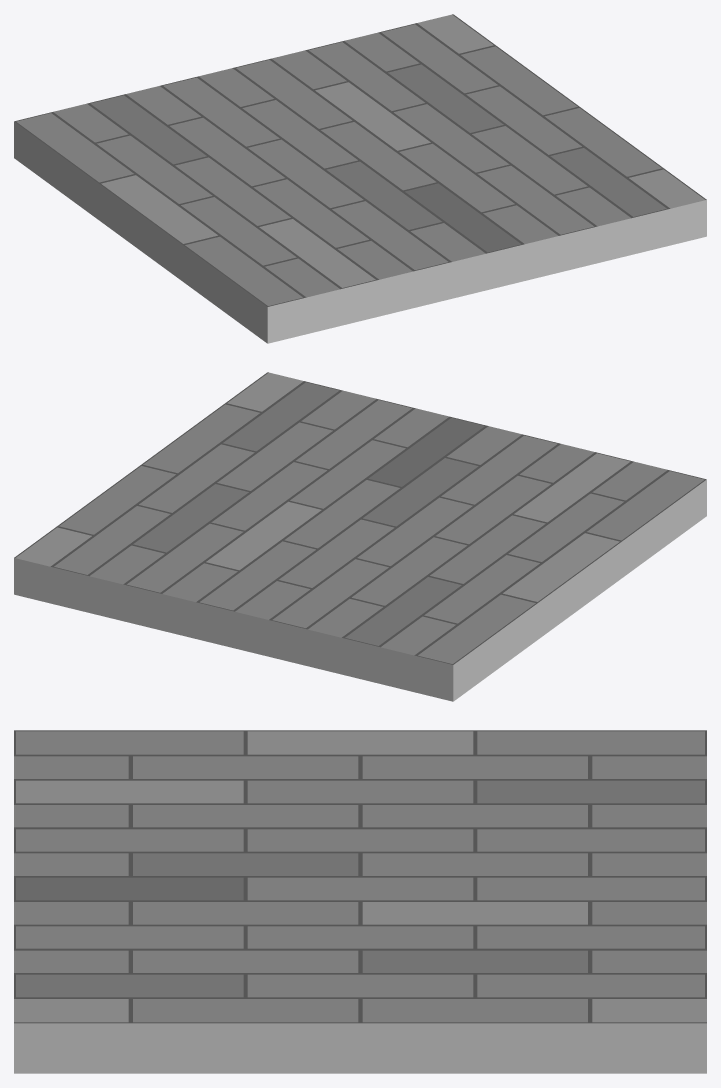
The model's file is Floor8_01.fbx.
3 views of the same model, one above another, from view 1: azimuth 30°, elevation 25°; view 2: azimuth 150°, elevation 25°; view 3: azimuth 270°, elevation 25° (orthographic). The views are drawn at different scales.
Parts seen in each view (by area): view 1: Floor8_01; view 2: Floor8_01; view 3: Floor8_01.
Boxes of the visible parts, box(x1,y1,x2,y2) form: Floor8_01: box(14, 14, 706, 343); Floor8_01: box(14, 372, 706, 701); Floor8_01: box(14, 730, 706, 1073).
Bounding box in the file's own units: 250 × 20 × 250.
